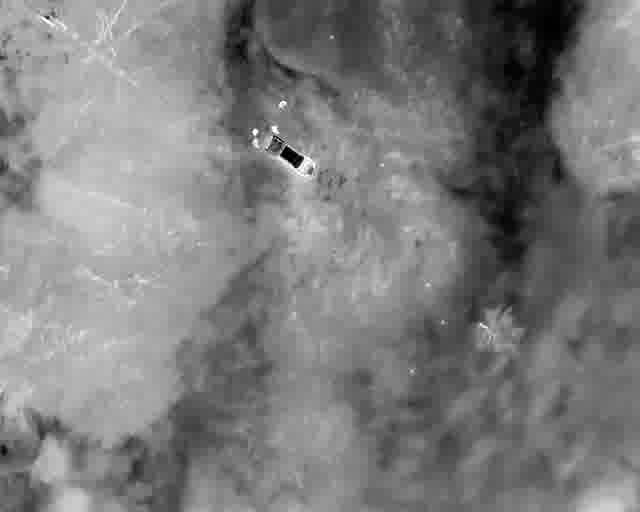car: (389, 341, 408, 366), (402, 367, 414, 388), (287, 139, 299, 156)
person: (392, 332, 395, 342), (389, 331, 392, 338), (309, 163, 312, 170), (311, 159, 314, 166), (307, 160, 310, 166), (304, 162, 306, 169)
